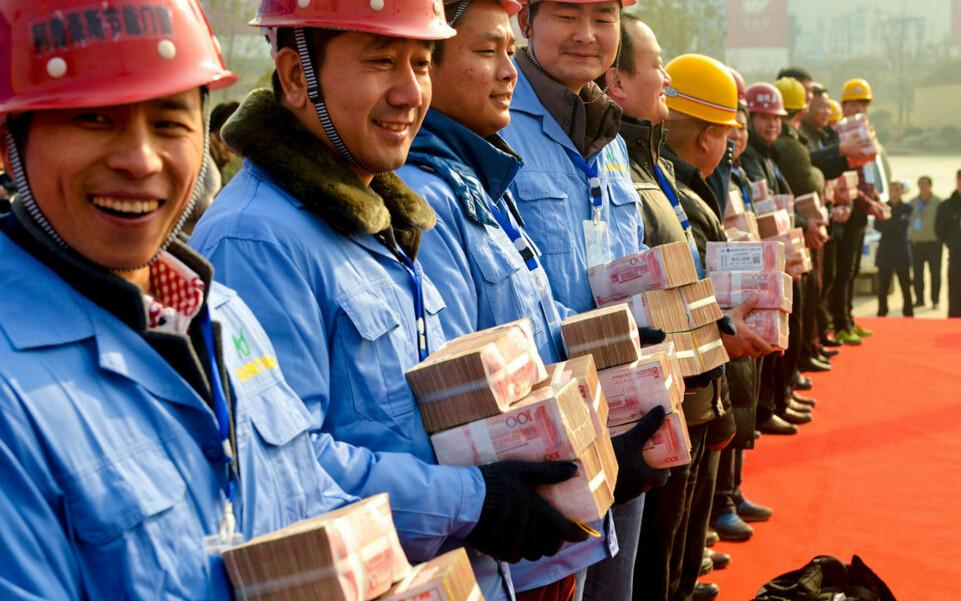helmet: (1, 1, 226, 109), (246, 1, 461, 48), (665, 56, 741, 129), (746, 85, 785, 116), (777, 80, 807, 113), (842, 78, 872, 106), (829, 97, 844, 123)
